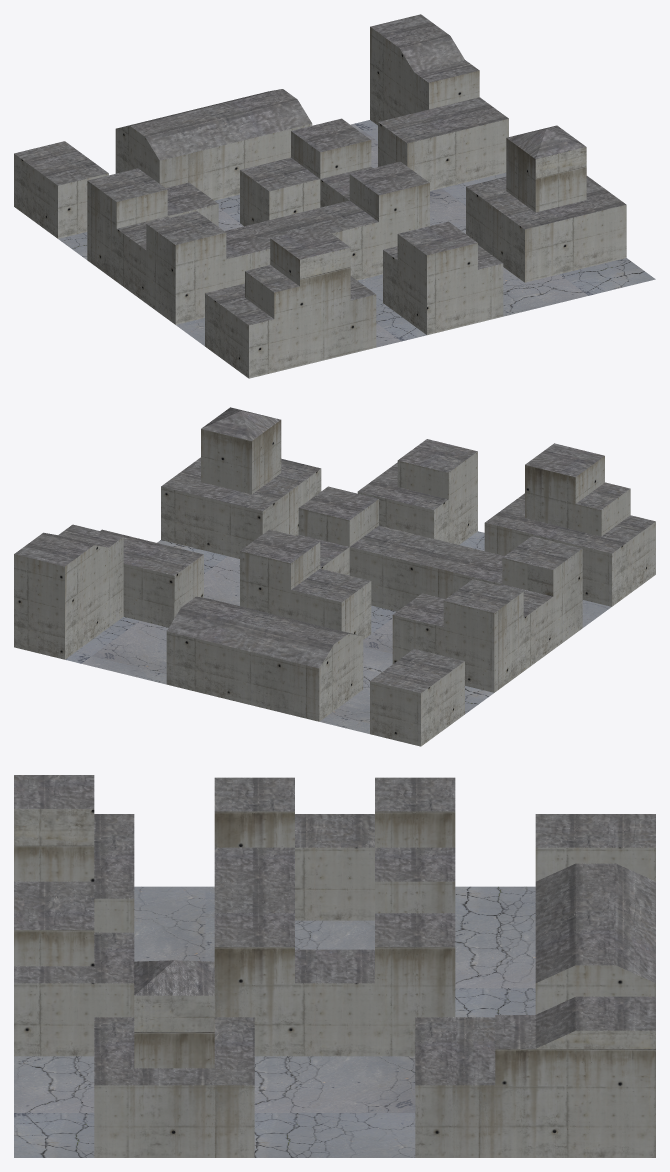
The model's file is tile2.fbx.
The picture shows the model from 3 angles, top to bottom: view 1: azimuth 30°, elevation 25°; view 2: azimuth 150°, elevation 25°; view 3: azimuth 270°, elevation 25°; orthographic projection. The views are drawn at different scales.
Visible parts, largest first — view 1: Plane; view 2: Plane; view 3: Plane.
Boxes of the visible parts, <box> form: Plane: <box>14,14,655,378</box>; Plane: <box>14,407,655,746</box>; Plane: <box>14,775,655,1157</box>.
Bounding box in the file's own units: 1600 × 450 × 1600.
